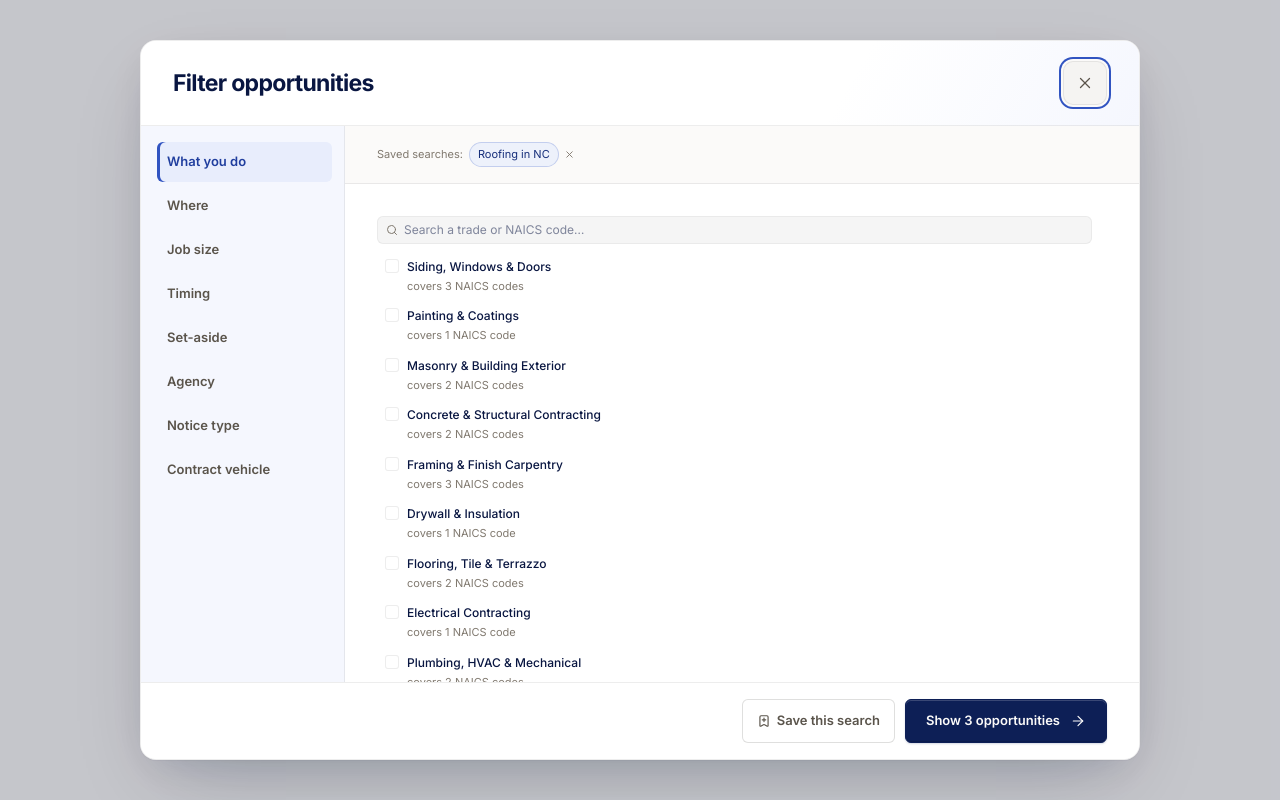
Test: FiltersDrawer — the window › narrows only the category's list, and changes no filter
Click the button "Contract vehicle". click: (244, 470)
box: [157,450,332,490]
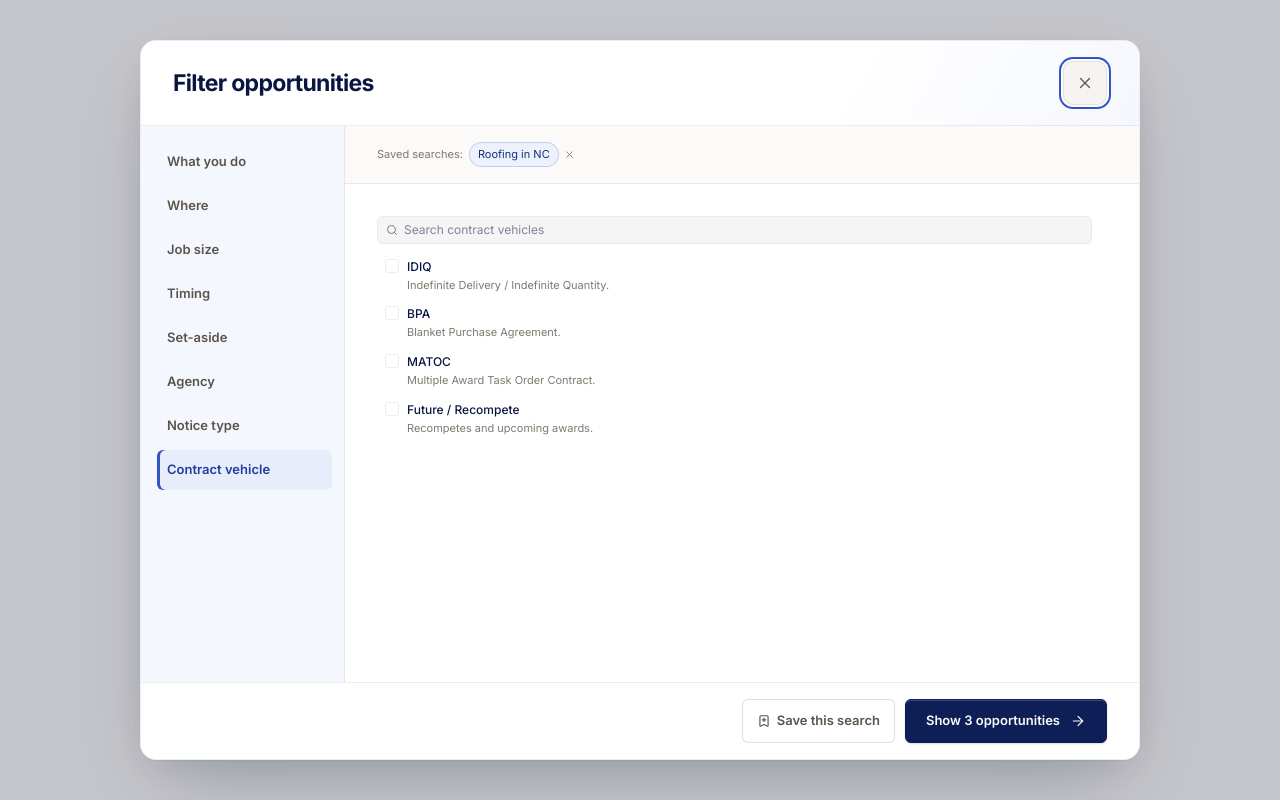
expect the text "IDIQ" is shown: met, box [407,258,431,274]
expect the text "BPA" is shown: met, box [407,306,430,321]
Type "idiq" into the field labelled "Search contract vehicles". click: (744, 230)
box: [404,220,1083,238]
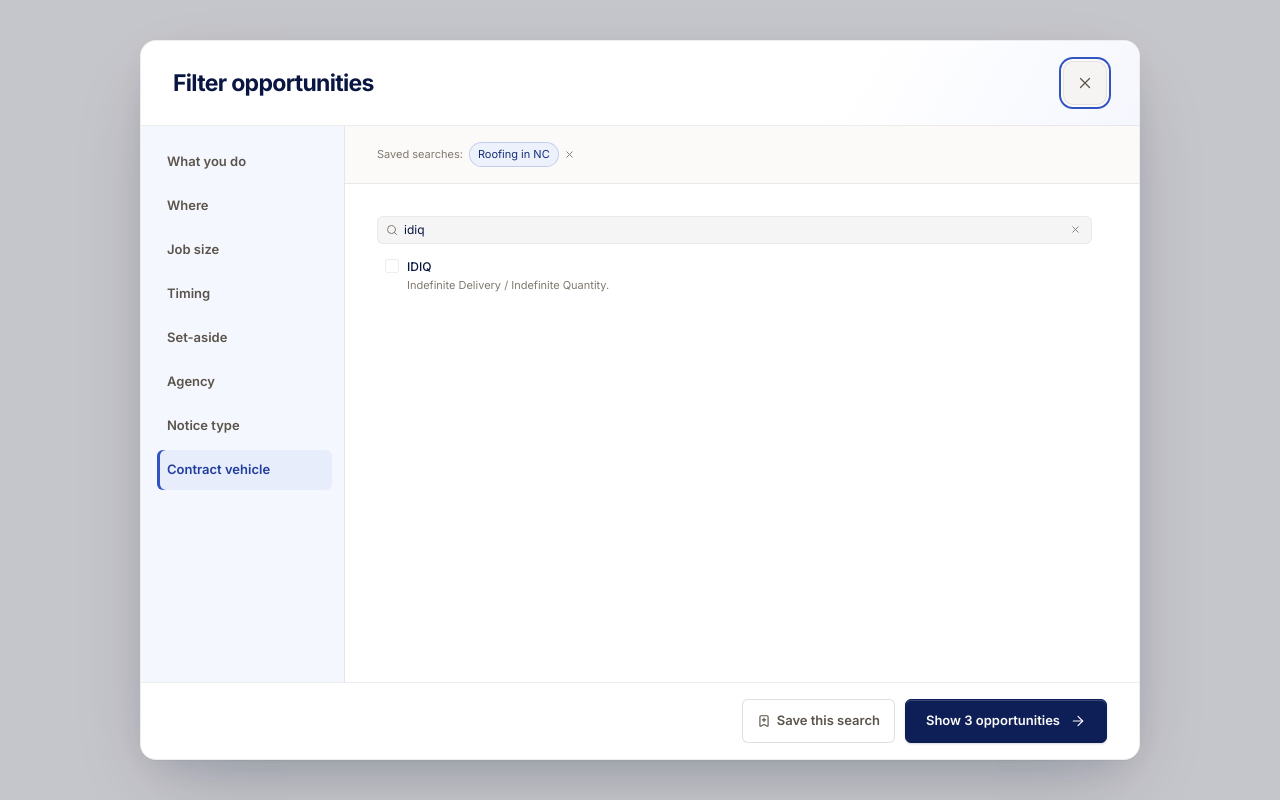
expect the text "IDIQ" is shown: met, box [407,258,431,274]
expect the option "BPA" is gone: met
